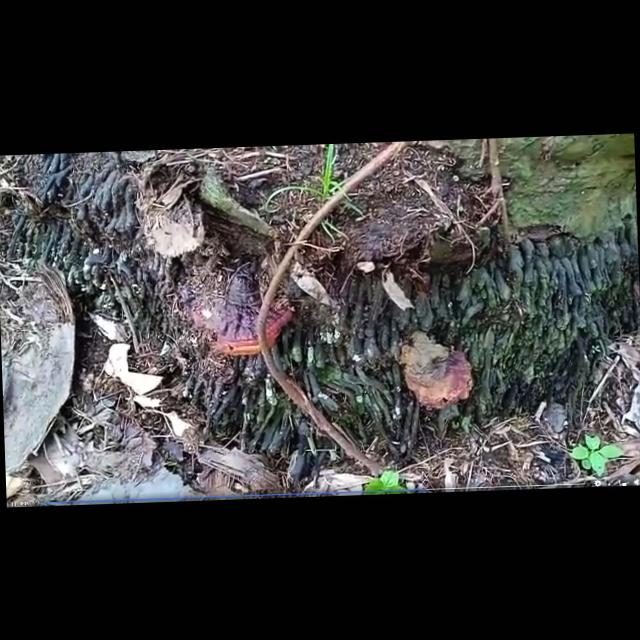ganoderma: (188, 275, 297, 359), (399, 330, 480, 413)
